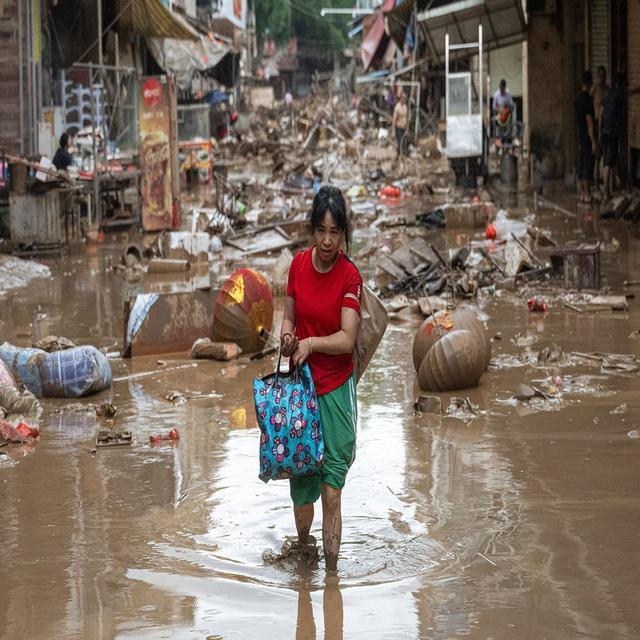Person-RiskLevel2: (250, 182, 371, 581)
